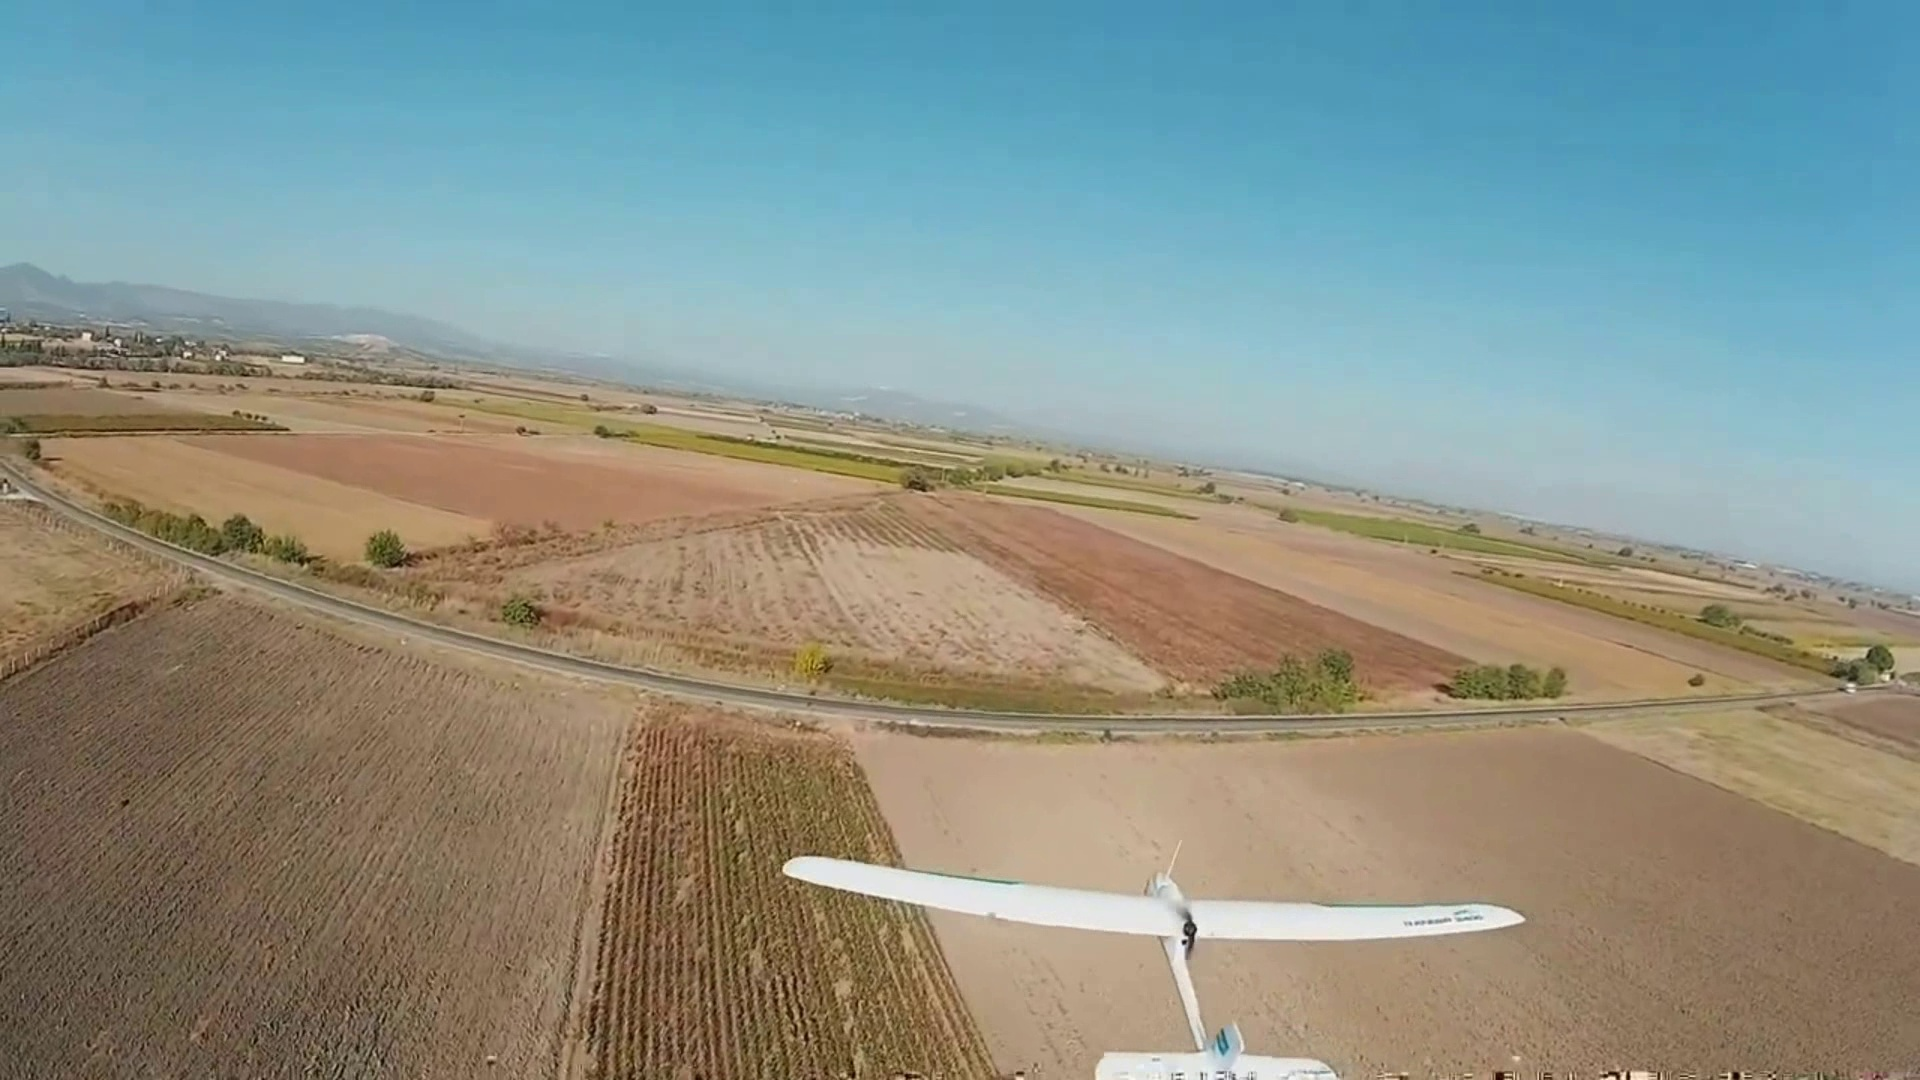airplane: (782, 852, 1527, 1072)
